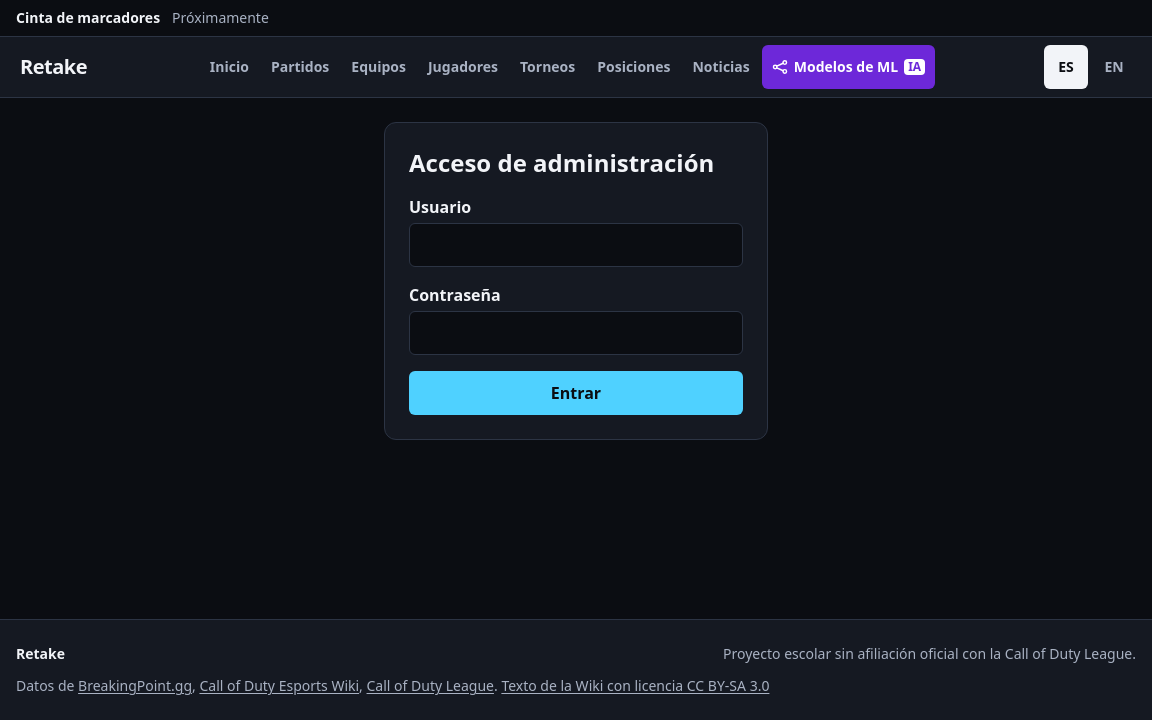
Test: página de administración (T-077 a T-079) › origen bloqueado
The image size is (1152, 720).
Type "hugo" into the field labelled "Usuario".
click(576, 245); type("hugo")  # box [409,223,743,267]
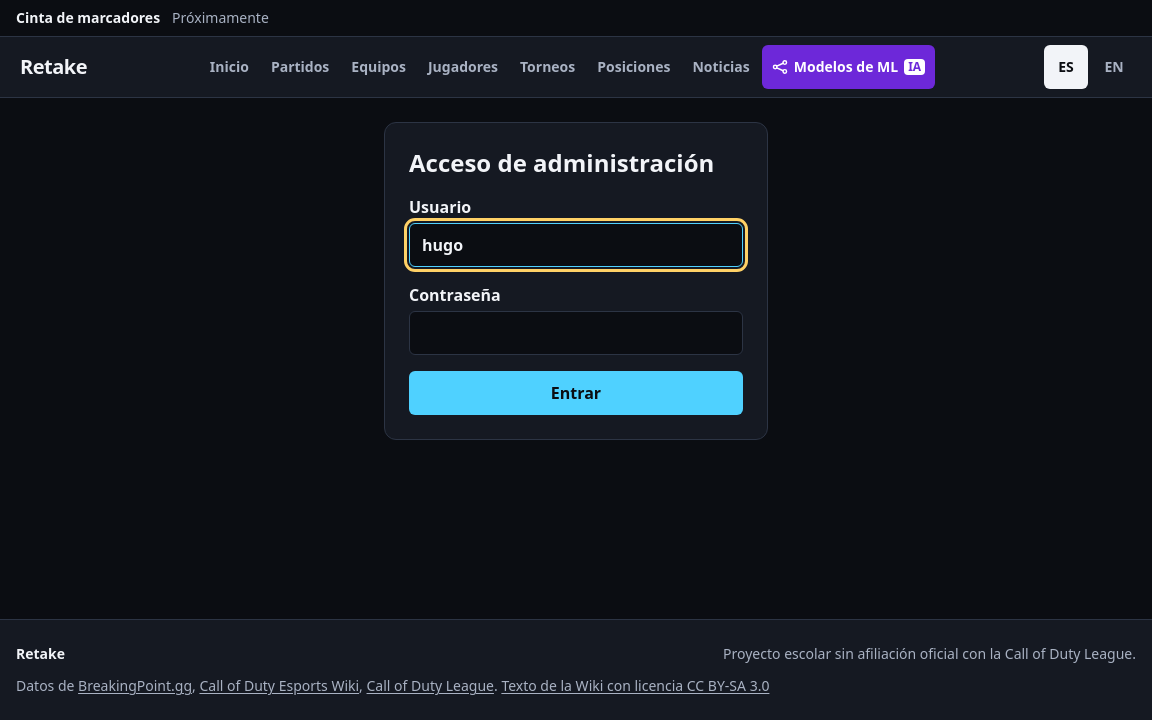
Type "x" into the password field labelled "Contraseña".
click(576, 333); type("x")  # box [409,311,743,355]
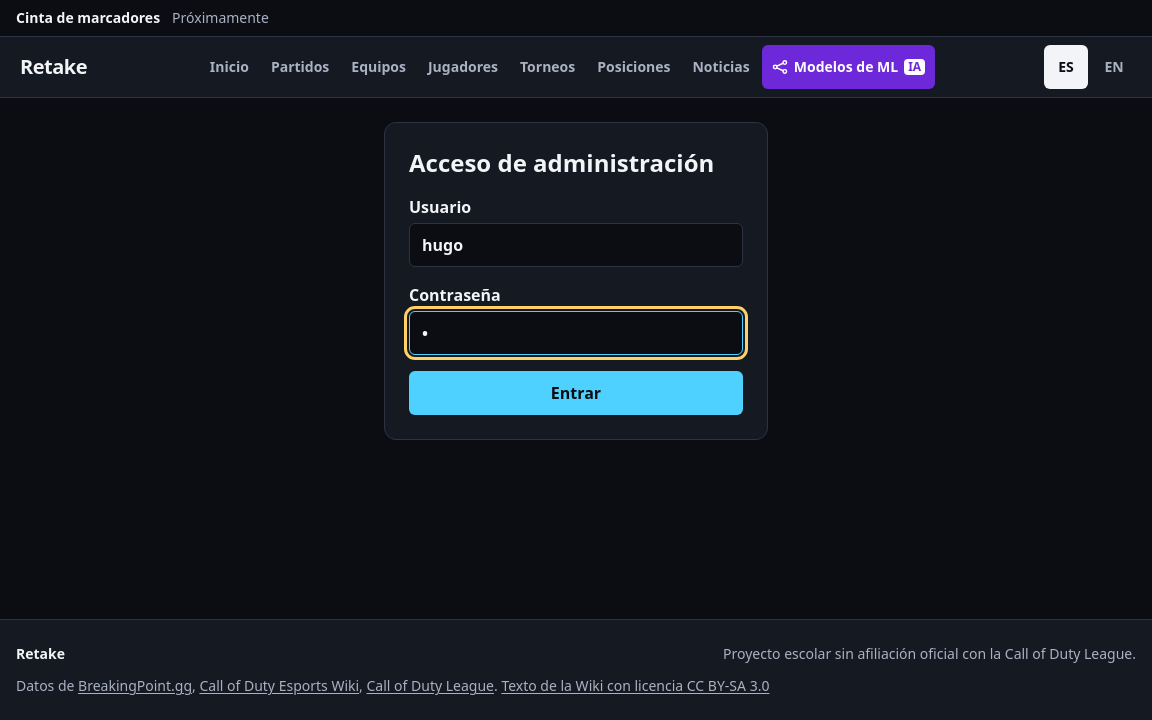
Click the button "Entrar".
click(576, 393)  # box [409,371,743,415]
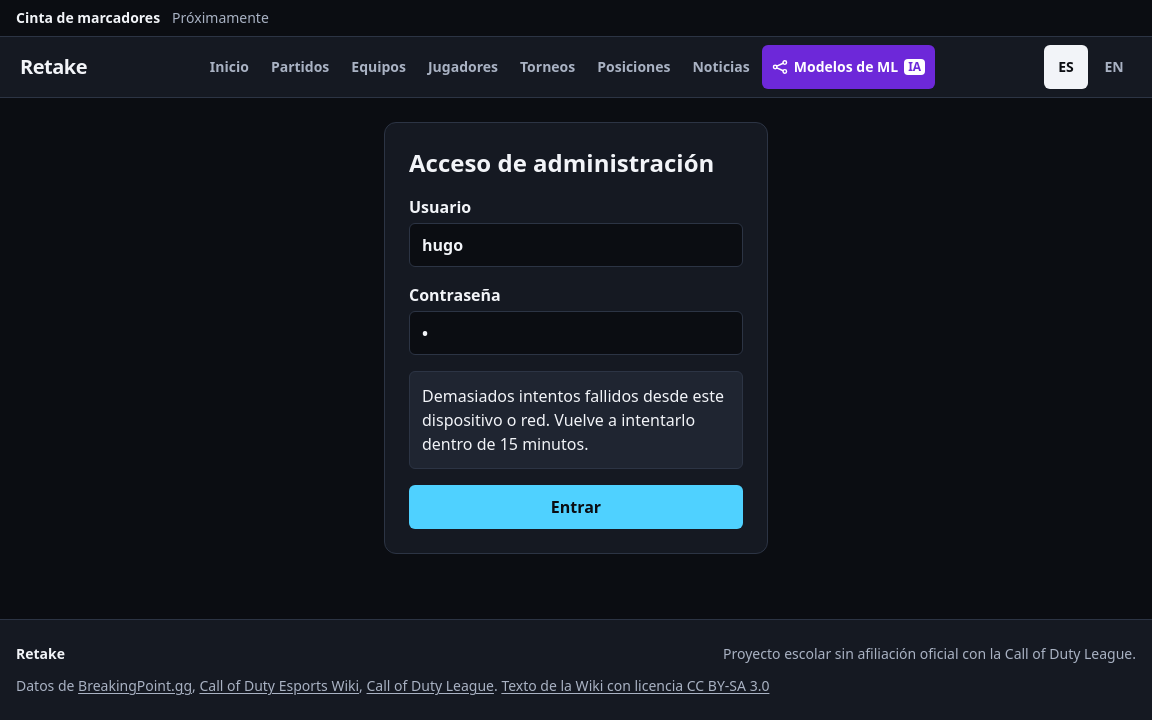
Expected: the message shows "15 minutos", [422,385,724,455]
